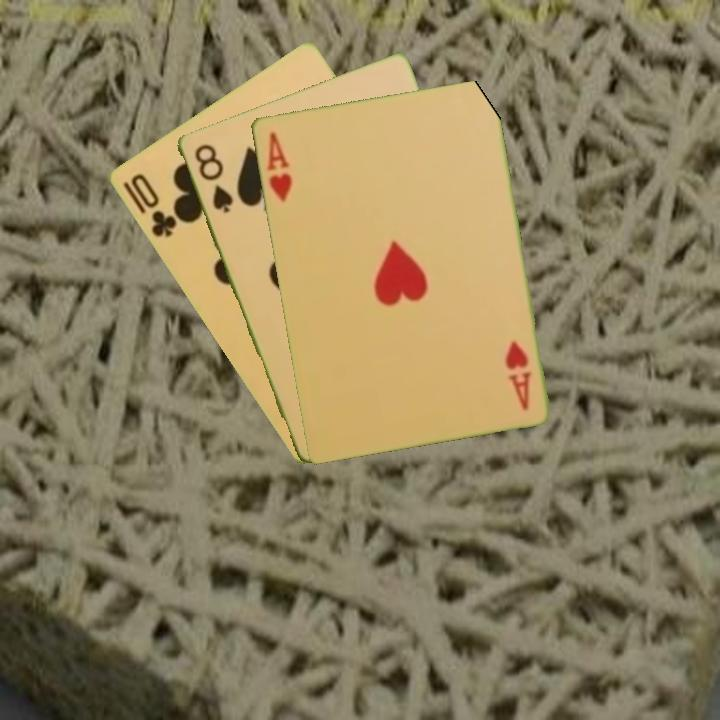10c: (118, 170, 180, 240)
8s: (190, 140, 236, 216)
Ah: (263, 128, 295, 204), (502, 337, 534, 413)
